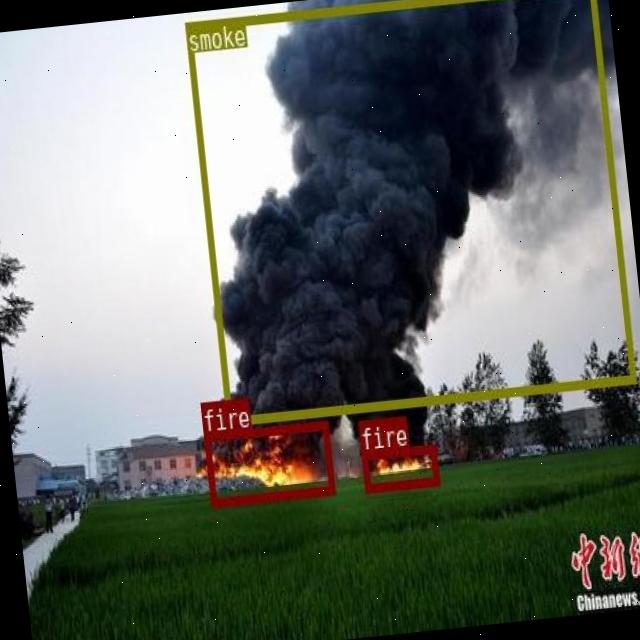fire: (203, 419, 333, 505), (361, 442, 438, 490)
smoke: (184, 0, 634, 424)
